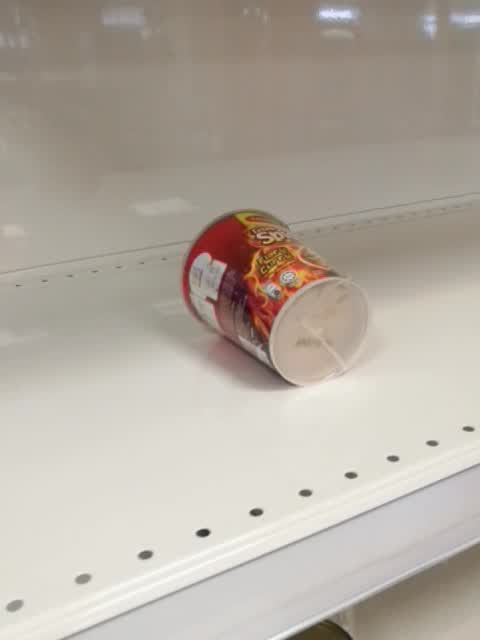maggi: (179, 206, 371, 388)
